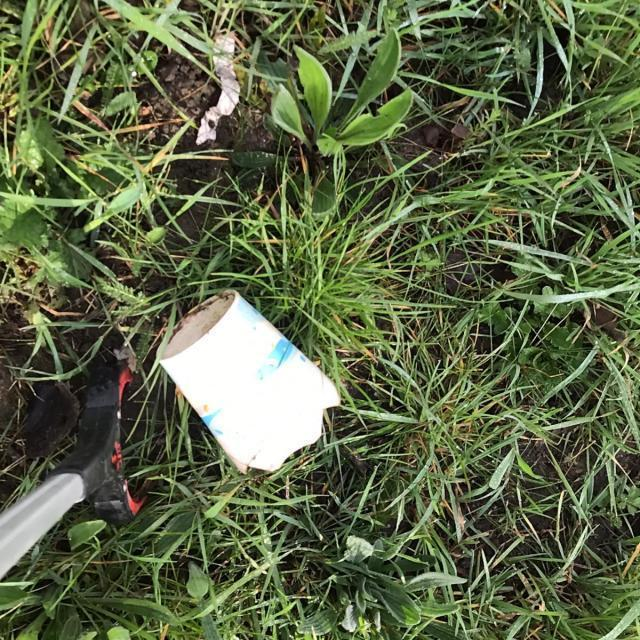Paper: (154, 288, 342, 477)
